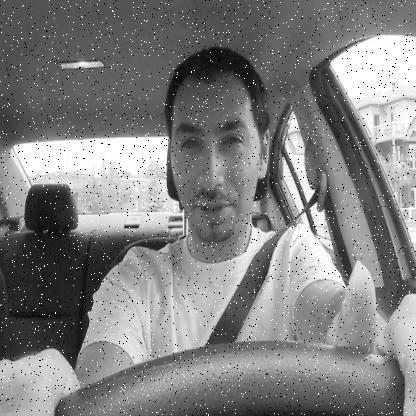seatbelt: (154, 38, 288, 342)
